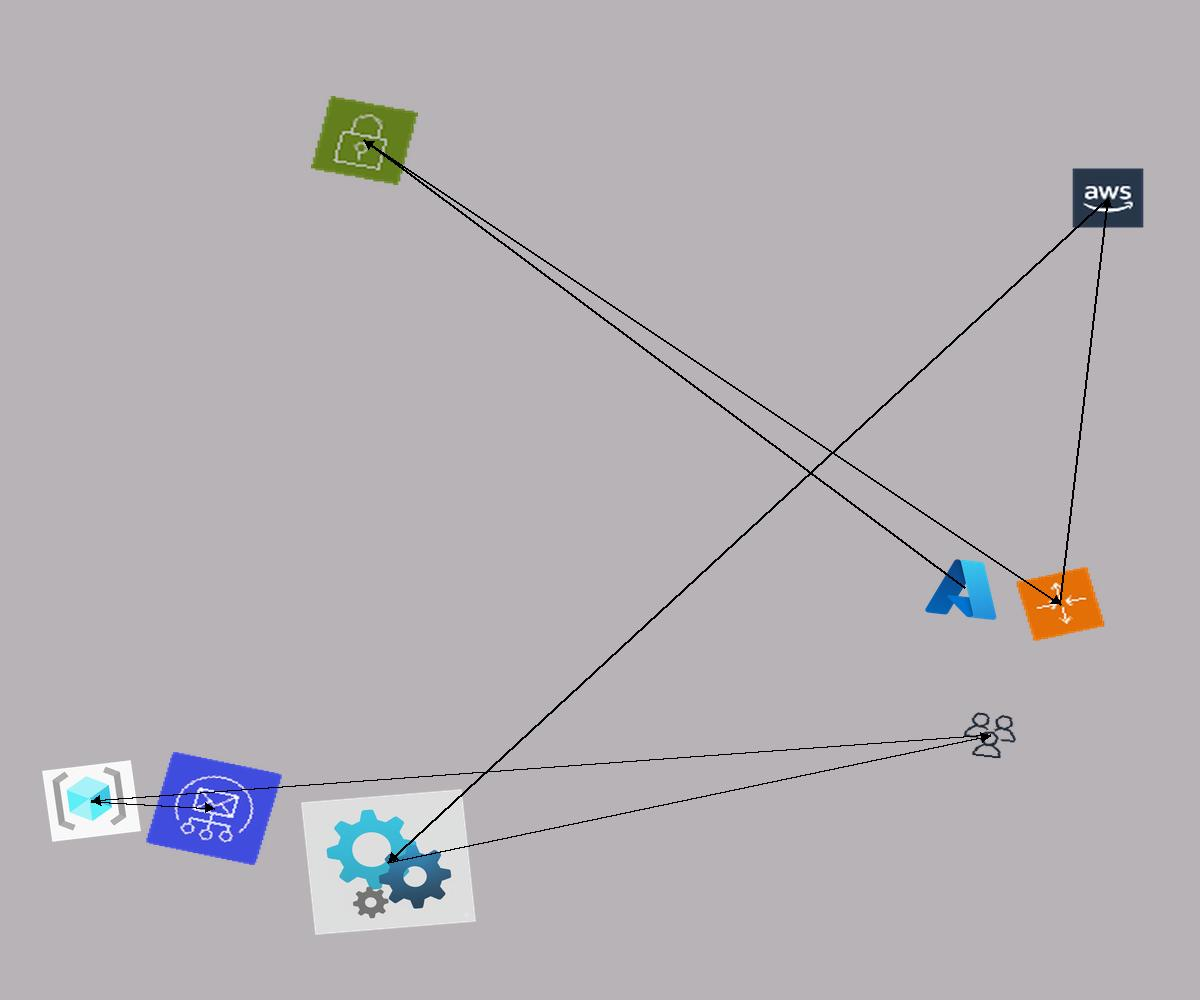AWS-Cloud-logo: (1071, 167, 1145, 229)
AWS-Public-subnet: (311, 96, 418, 185)
AWS-Res_Users: (957, 708, 1023, 763)
AWS-Scaling-group: (1015, 566, 1106, 642)
AWS-Simple-Email-Service: (145, 751, 283, 866)
Azure_api: (301, 789, 476, 935)
Azure_resource_group: (42, 760, 141, 842)
Azure_services: (921, 552, 1009, 625)
